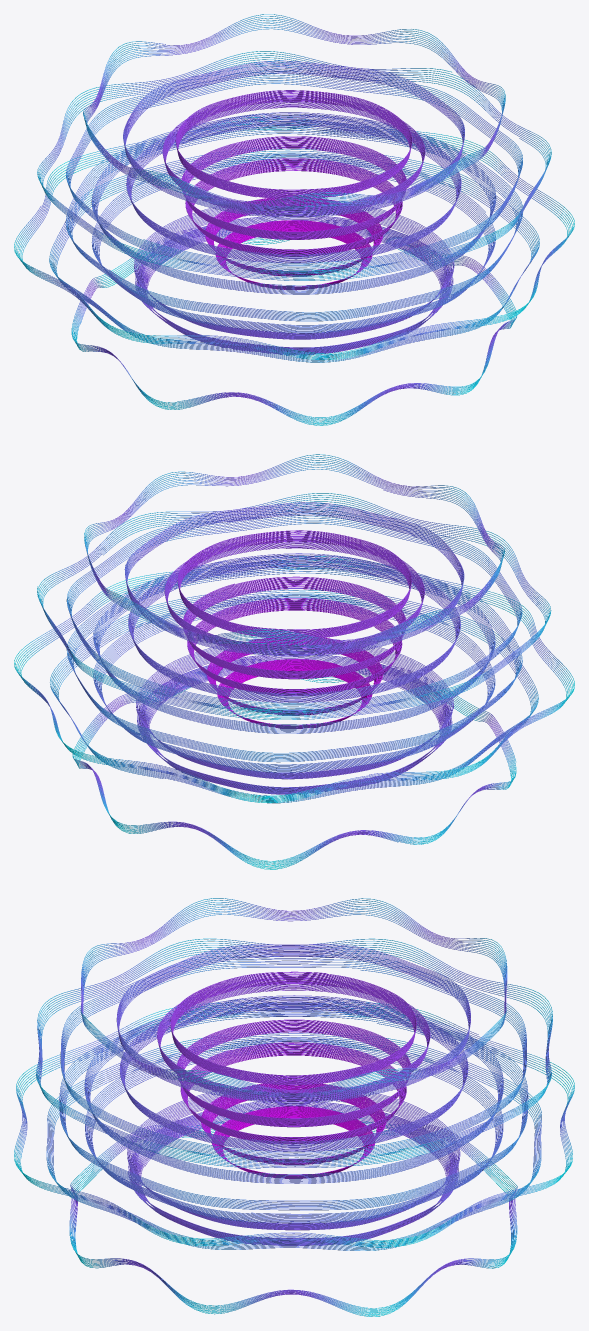
The model's file is coil_4_field_lines.gltf.
3 renders of one model, top to bottom at view 1: azimuth 30°, elevation 25°; view 2: azimuth 150°, elevation 25°; view 3: azimuth 270°, elevation 25°, orthographic. The views are drawn at different scales.
Visible parts, largest first — view 1: Renderer Node; view 2: Renderer Node; view 3: Renderer Node.
Part boxes in pixels (box(x1,y1,x2,y2)): Renderer Node: box(14, 14, 574, 425); Renderer Node: box(14, 454, 574, 869); Renderer Node: box(14, 898, 574, 1316).
Size of the model in its own units: 1.07 by 0.5286 by 1.08.
Materials: 1 (1 with a texture image).
